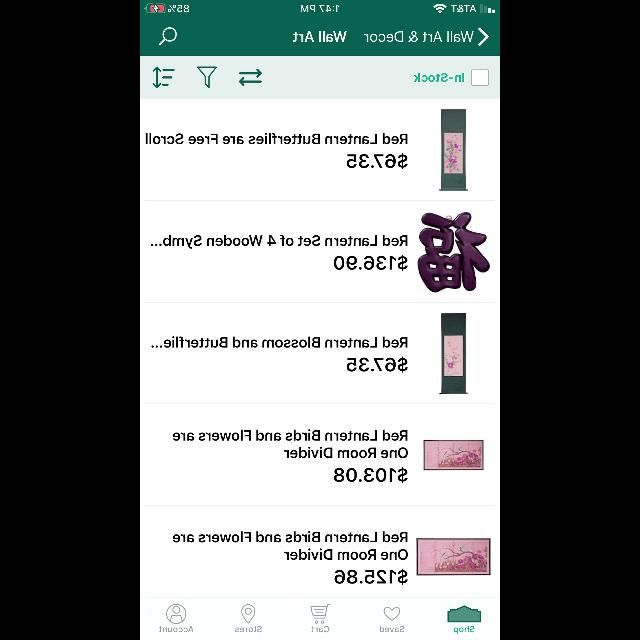checkbox: (472, 70, 488, 86)
icon: (153, 67, 175, 89), (310, 604, 330, 624), (166, 604, 186, 624), (238, 70, 262, 86), (160, 27, 177, 45), (242, 604, 254, 624), (384, 608, 400, 620), (478, 28, 488, 46)
image: (418, 212, 490, 292), (416, 538, 490, 576), (439, 312, 467, 393), (439, 110, 467, 190), (423, 440, 483, 470), (448, 606, 480, 622), (197, 67, 217, 89)
text: (172, 429, 408, 458), (172, 532, 408, 560), (151, 235, 407, 249), (152, 337, 408, 348), (145, 134, 407, 144), (334, 255, 408, 271), (334, 467, 408, 483), (334, 569, 408, 585), (364, 32, 474, 42), (347, 153, 408, 169), (347, 357, 408, 373), (293, 32, 347, 42), (414, 72, 464, 82), (159, 626, 193, 632), (234, 626, 262, 632), (454, 626, 474, 634), (380, 626, 404, 632), (312, 626, 328, 632)
uppertaskbar: (140, 0, 500, 14)
